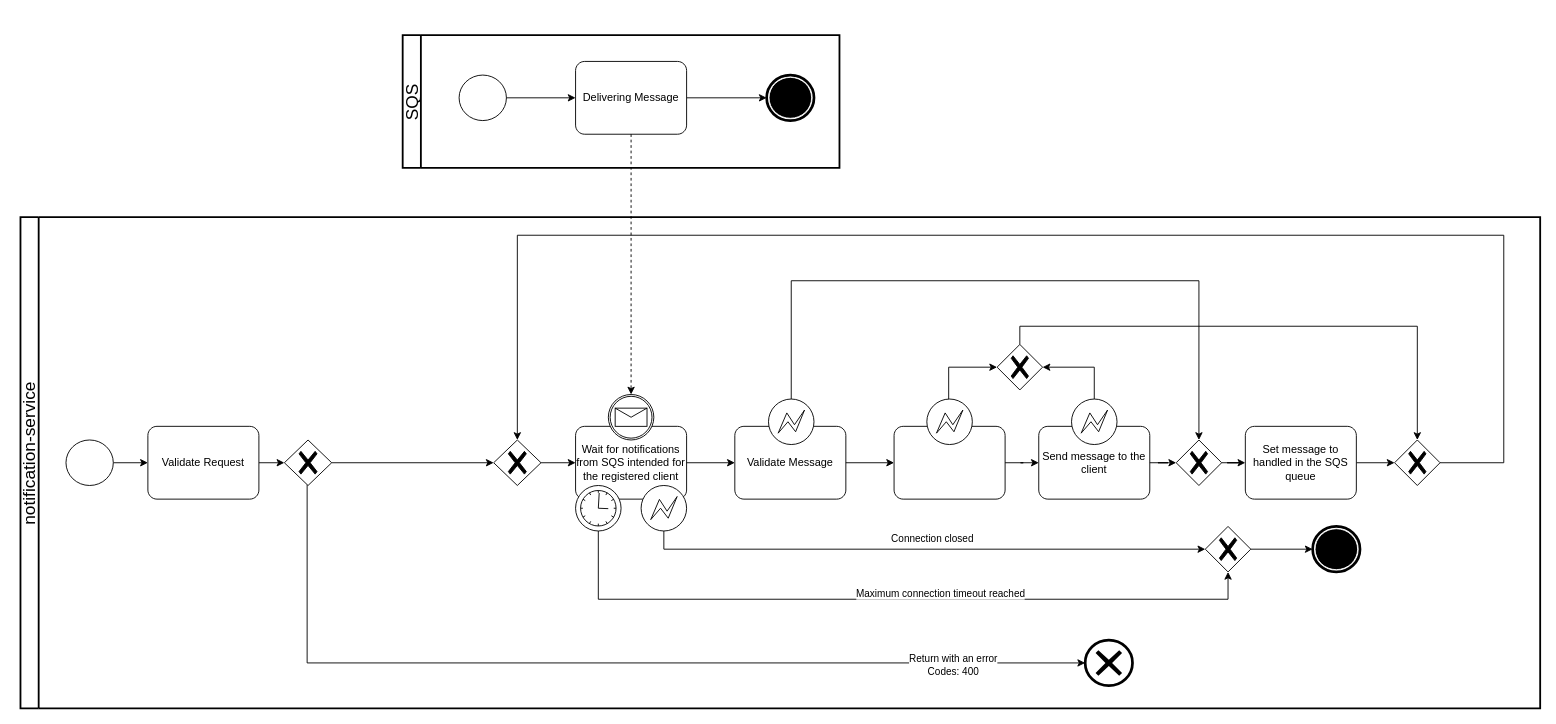
The diagram is 1556 pixels wide and 724 high, and some of its shapes have lost their labels. Each missing label, with the centre of its shape:
"Check if the addressee client is connected" goes at [949,462].
"Publishing Message to the SQS queue (user queue)" goes at [482,97].
"Request to sign up for notifications" goes at [89,462].
